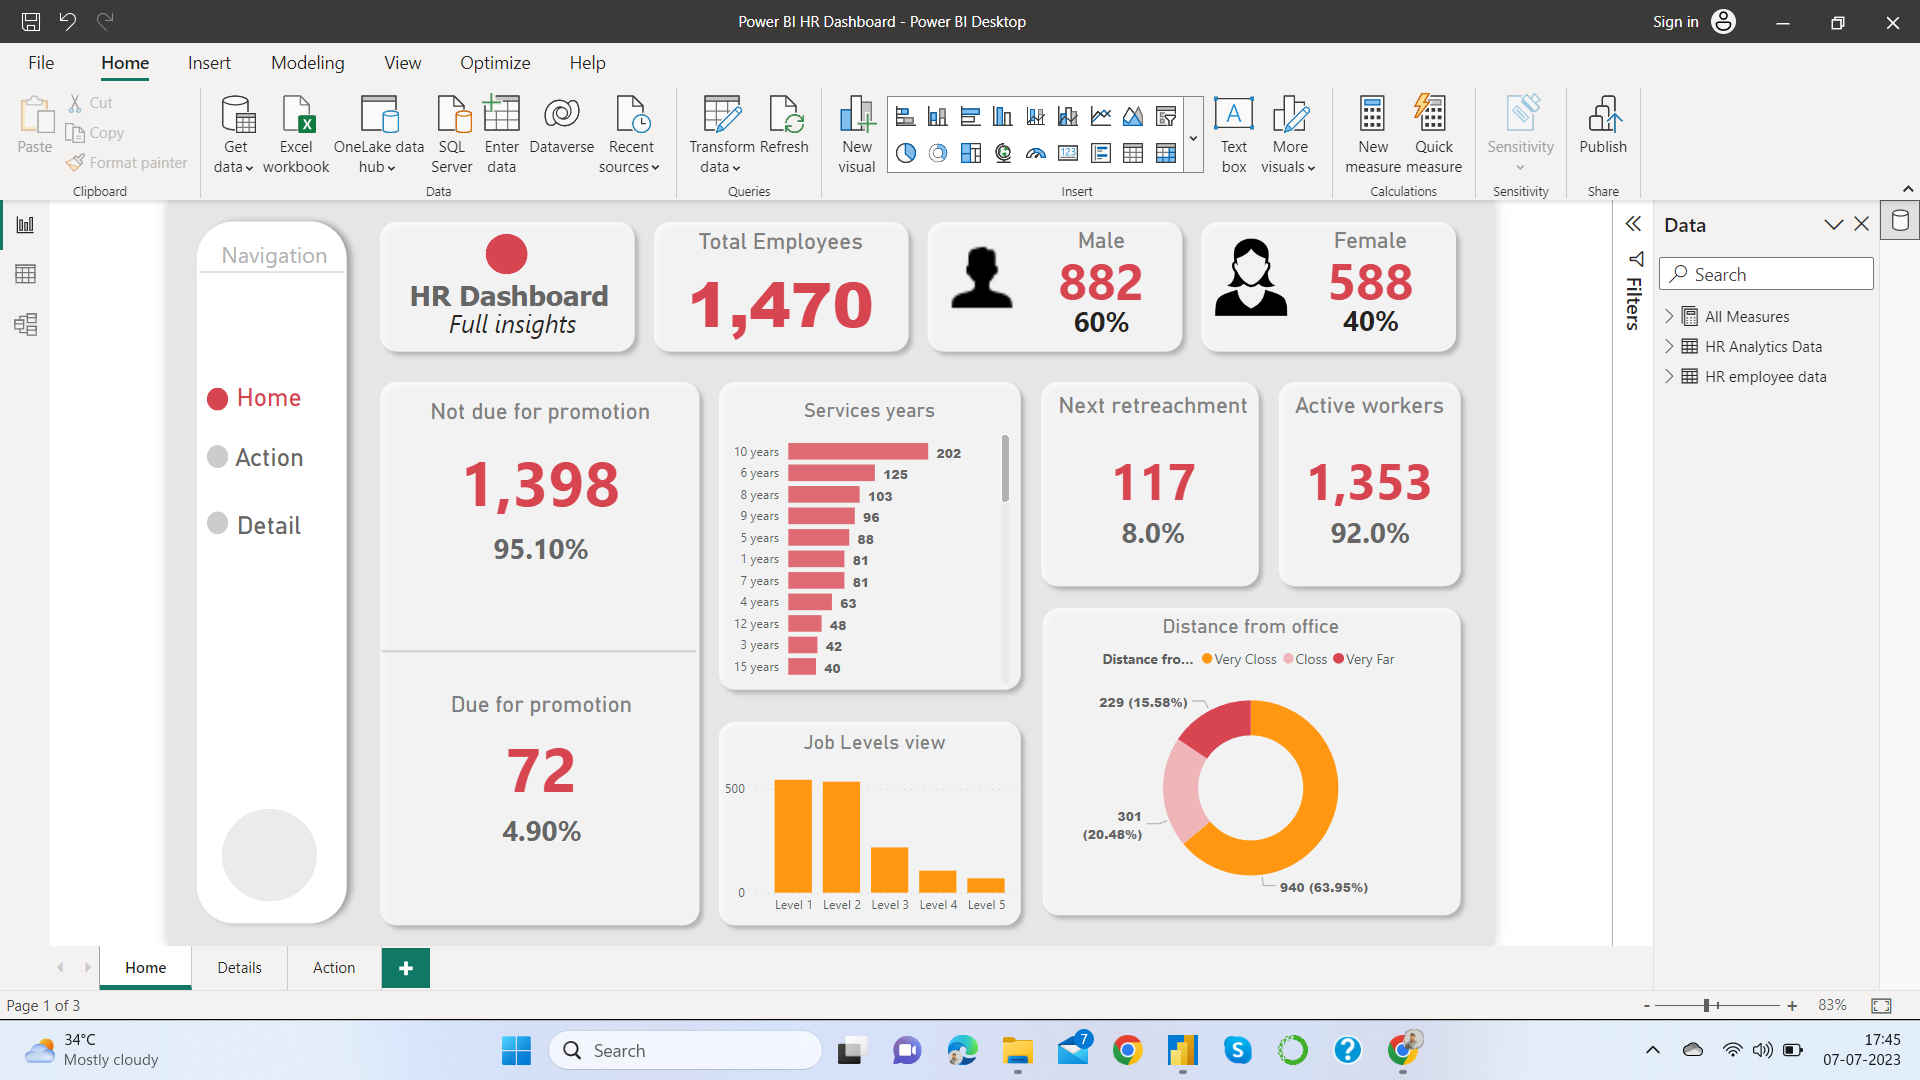

This screenshot's page, from the dashboard's own definition file:
{"tool":"powerbi","page":{"name":"Home","canvas":[1280,720],"ordinal":0},"visuals":[{"type":"shape","box":[16.5,9.6,166.5,699.2],"z":0},{"type":"shape","box":[195.4,12.4,264.3,143.1],"z":1000},{"type":"shape","box":[459.7,12.4,264.3,143.1],"z":2000},{"type":"shape","box":[724,12.4,264.3,143.1],"z":3000},{"type":"shape","box":[988.2,12.4,264.3,143.1],"z":4000},{"type":"shape","box":[195.4,166.5,326.2,542.3],"z":5000},{"type":"shape","box":[521.6,166.2,309.7,315.2],"z":6000},{"type":"shape","box":[521.6,494.1,309.7,214.7],"z":7000},{"type":"shape","box":[834.8,384.2,421.6,314.1],"z":8000},{"type":"shape","box":[833.6,166.7,228.3,215],"z":9000},{"type":"shape","box":[1063.1,166.7,193.3,215],"z":10000},{"type":"textbox","box":[209.7,71.2,238.7,51.4],"z":11000},{"type":"textbox","box":[36.9,33,130.5,51.4],"z":12000},{"type":"textbox","box":[209.7,97.6,251.9,55.4],"z":13000},{"type":"shape","box":[305.9,33,40.9,39.6],"z":14000},{"type":"card","title":"Total Employees","fields":{"Values":["All Measures.Total Emp"]},"box":[468,27.5,246.4,112.9],"z":15000},{"type":"card","title":"Male","fields":{"Values":["All Measures.Male"]},"box":[814.8,26.2,170.7,75.7],"z":16000},{"type":"card","fields":{"Values":["All Measures.Male %"]},"box":[834.1,90.8,132.1,55.1],"z":17000},{"type":"card","title":"Female","fields":{"Values":["All Measures.Female"]},"box":[1068.7,26.2,183.1,75.7],"z":18000},{"type":"card","fields":{"Values":["All Measures.Female %"]},"box":[1083.9,90.8,152.8,53.7],"z":19000},{"type":"image","box":[736.3,26.2,95,90.8],"z":20000},{"type":"actionButton","title":"Home","box":[27.8,176.4,140.1,30.2],"z":21000},{"type":"image","box":[1004.7,33,79.8,84],"z":22000},{"type":"actionButton","title":"Action","box":[27.7,233.4,139.8,56.7],"z":23000},{"type":"card","title":"Active workers","fields":{"Values":["All Measures.On service"]},"box":[1058.3,186,203,142.6],"z":24000},{"type":"actionButton","title":"Detail","box":[27.7,300.7,139.8,58],"z":25000},{"type":"card","fields":{"Values":["All Measures.% Active workers"]},"box":[1082.4,296,153.4,53.2],"z":26000},{"type":"card","title":"Next retreachment","fields":{"Values":["All Measures.Due for retirment"]},"box":[843.2,186,215,142.6],"z":27000},{"type":"card","fields":{"Values":["All Measures.%Due for retirment"]},"box":[865,296,171.5,53.2],"z":28000},{"type":"columnChart","title":"Job Levels view","fields":{"Category":["HR Analytics Data.Job Level"],"Y":["All Measures.Total Emp"]},"box":[531.3,512,300,185.8],"z":29000},{"type":"barChart","title":"Services years","fields":{"Category":["HR Analytics Data.Total working Years"],"Y":["All Measures.Total Emp"]},"box":[536.4,192.1,280.3,280.3],"z":30000},{"type":"donutChart","title":"Distance from office","fields":{"Category":["HR Analytics Data.Distance from office"],"Y":["All Measures.Total Emp"]},"box":[840.8,399.9,408.3,282.7],"z":31000},{"type":"card","title":"Not due for promotion","fields":{"Values":["All Measures.Not Due"]},"box":[207.8,192.1,303.2,130.5],"z":32000},{"type":"card","title":"Due for promotion","fields":{"Values":["All Measures.Due for promotion"]},"box":[209,473.8,303.2,119.6],"z":33000},{"type":"shape","box":[206.6,427.7,303.2,14.5],"z":34000},{"type":"card","fields":{"Values":["All Measures.% Not due for promotion"]},"box":[283.5,309.7,152.8,53.7],"z":35000},{"type":"card","fields":{"Values":["All Measures.% Due for promotion"]},"box":[285.1,582.5,152.2,53.2],"z":36000},{"type":"shape","box":[36.9,180.7,21.1,22.4],"z":37000},{"type":"shape","box":[36.9,236,21.1,22.4],"z":38000},{"type":"shape","box":[36.9,300.7,21.1,22.4],"z":39000},{"type":"shape","box":[51.4,586.8,92.3,89.7],"z":40000},{"type":"shape","box":[30.2,61.6,140.1,15.7],"z":41000}]}

Visuals, with their boxes on the page's 1280x720 design canvas (x1, y1, x2, y2). These are canvas units, not pixel positions in the 1920x1080 screenshot, which may show the page scaled, cropped or inside an application window:
shape: (16, 10, 183, 709)
shape: (195, 12, 460, 156)
shape: (460, 12, 724, 156)
shape: (724, 12, 988, 156)
shape: (988, 12, 1252, 156)
shape: (195, 166, 522, 709)
shape: (522, 166, 831, 481)
shape: (522, 494, 831, 709)
shape: (835, 384, 1256, 698)
shape: (834, 167, 1062, 382)
shape: (1063, 167, 1256, 382)
textbox: (210, 71, 448, 123)
textbox: (37, 33, 167, 84)
textbox: (210, 98, 462, 153)
shape: (306, 33, 347, 73)
"Total Employees" card: (468, 28, 714, 140)
"Male" card: (815, 26, 986, 102)
card - All Measures.Male %: (834, 91, 966, 146)
"Female" card: (1069, 26, 1252, 102)
card - All Measures.Female %: (1084, 91, 1237, 144)
image: (736, 26, 831, 117)
"Home" actionButton: (28, 176, 168, 207)
image: (1005, 33, 1084, 117)
"Action" actionButton: (28, 233, 168, 290)
"Active workers" card: (1058, 186, 1261, 329)
"Detail" actionButton: (28, 301, 168, 359)
card - All Measures.% Active workers: (1082, 296, 1236, 349)
"Next retreachment" card: (843, 186, 1058, 329)
card - All Measures.%Due for retirment: (865, 296, 1036, 349)
"Job Levels view" columnChart: (531, 512, 831, 698)
"Services years" barChart: (536, 192, 817, 472)
"Distance from office" donutChart: (841, 400, 1249, 683)
"Not due for promotion" card: (208, 192, 511, 323)
"Due for promotion" card: (209, 474, 512, 593)
shape: (207, 428, 510, 442)
card - All Measures.% Not due for promotion: (284, 310, 436, 363)
card - All Measures.% Due for promotion: (285, 582, 437, 636)
shape: (37, 181, 58, 203)
shape: (37, 236, 58, 258)
shape: (37, 301, 58, 323)
shape: (51, 587, 144, 676)
shape: (30, 62, 170, 77)
